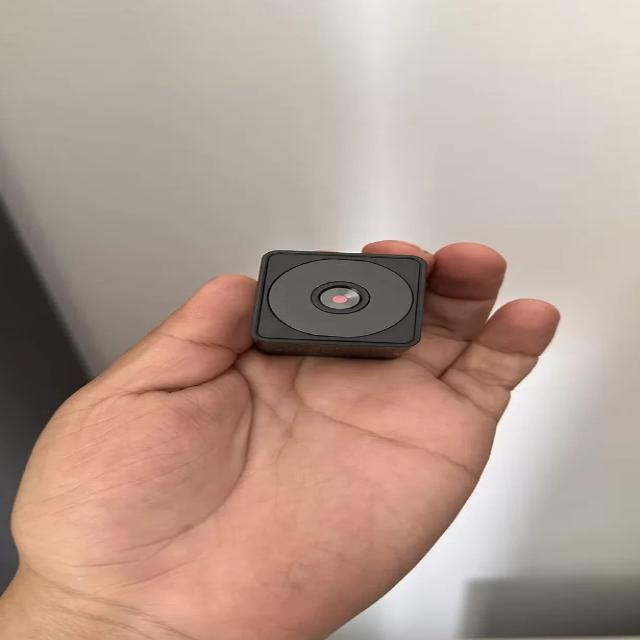hidden camera: (312, 281, 371, 314)
